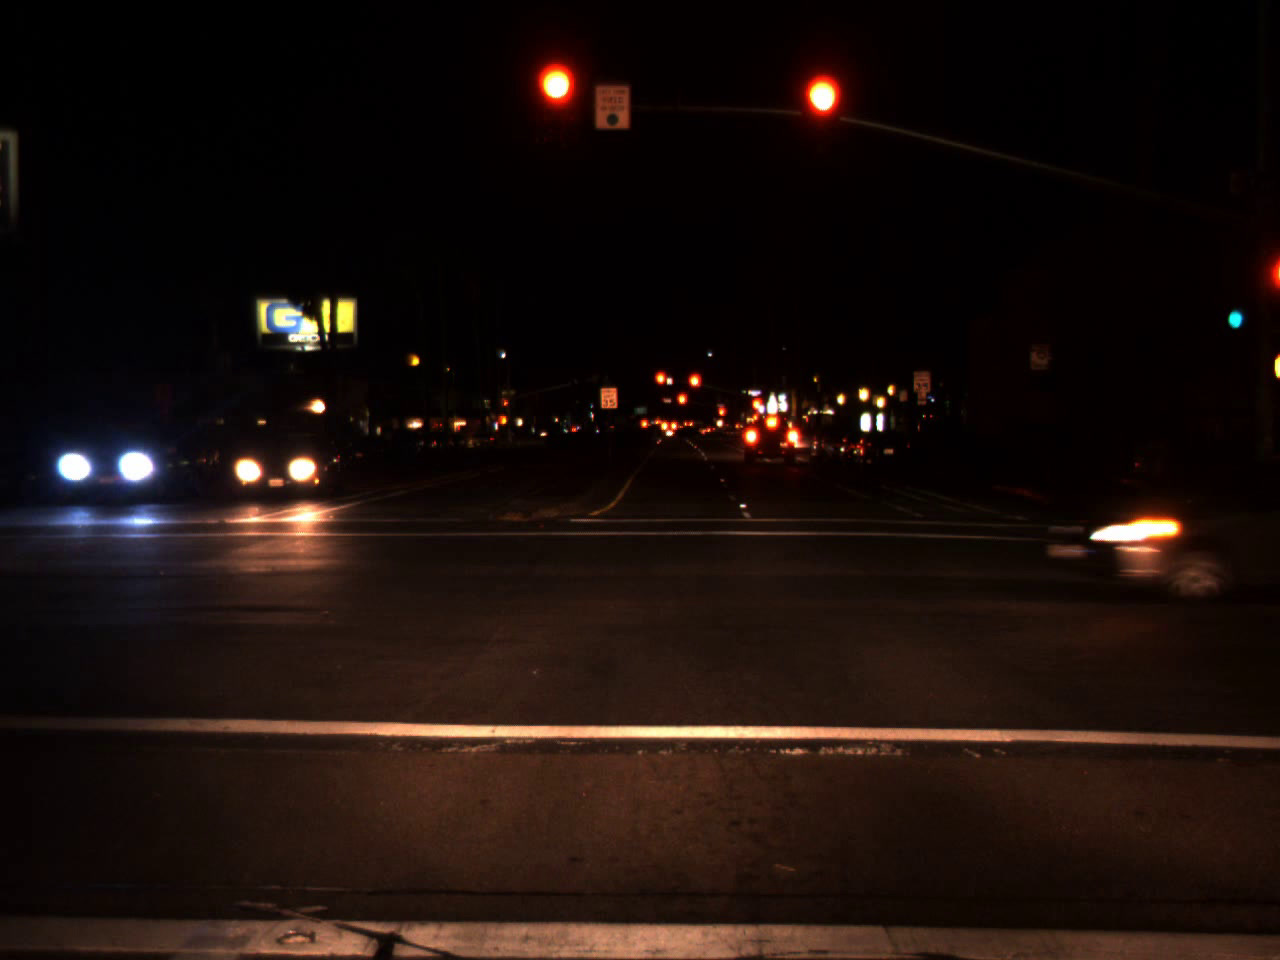stop: (536, 64, 577, 142), (802, 75, 841, 153), (686, 372, 702, 401), (653, 370, 666, 399), (676, 392, 688, 416), (749, 396, 764, 412), (500, 396, 510, 417), (717, 406, 727, 427)
